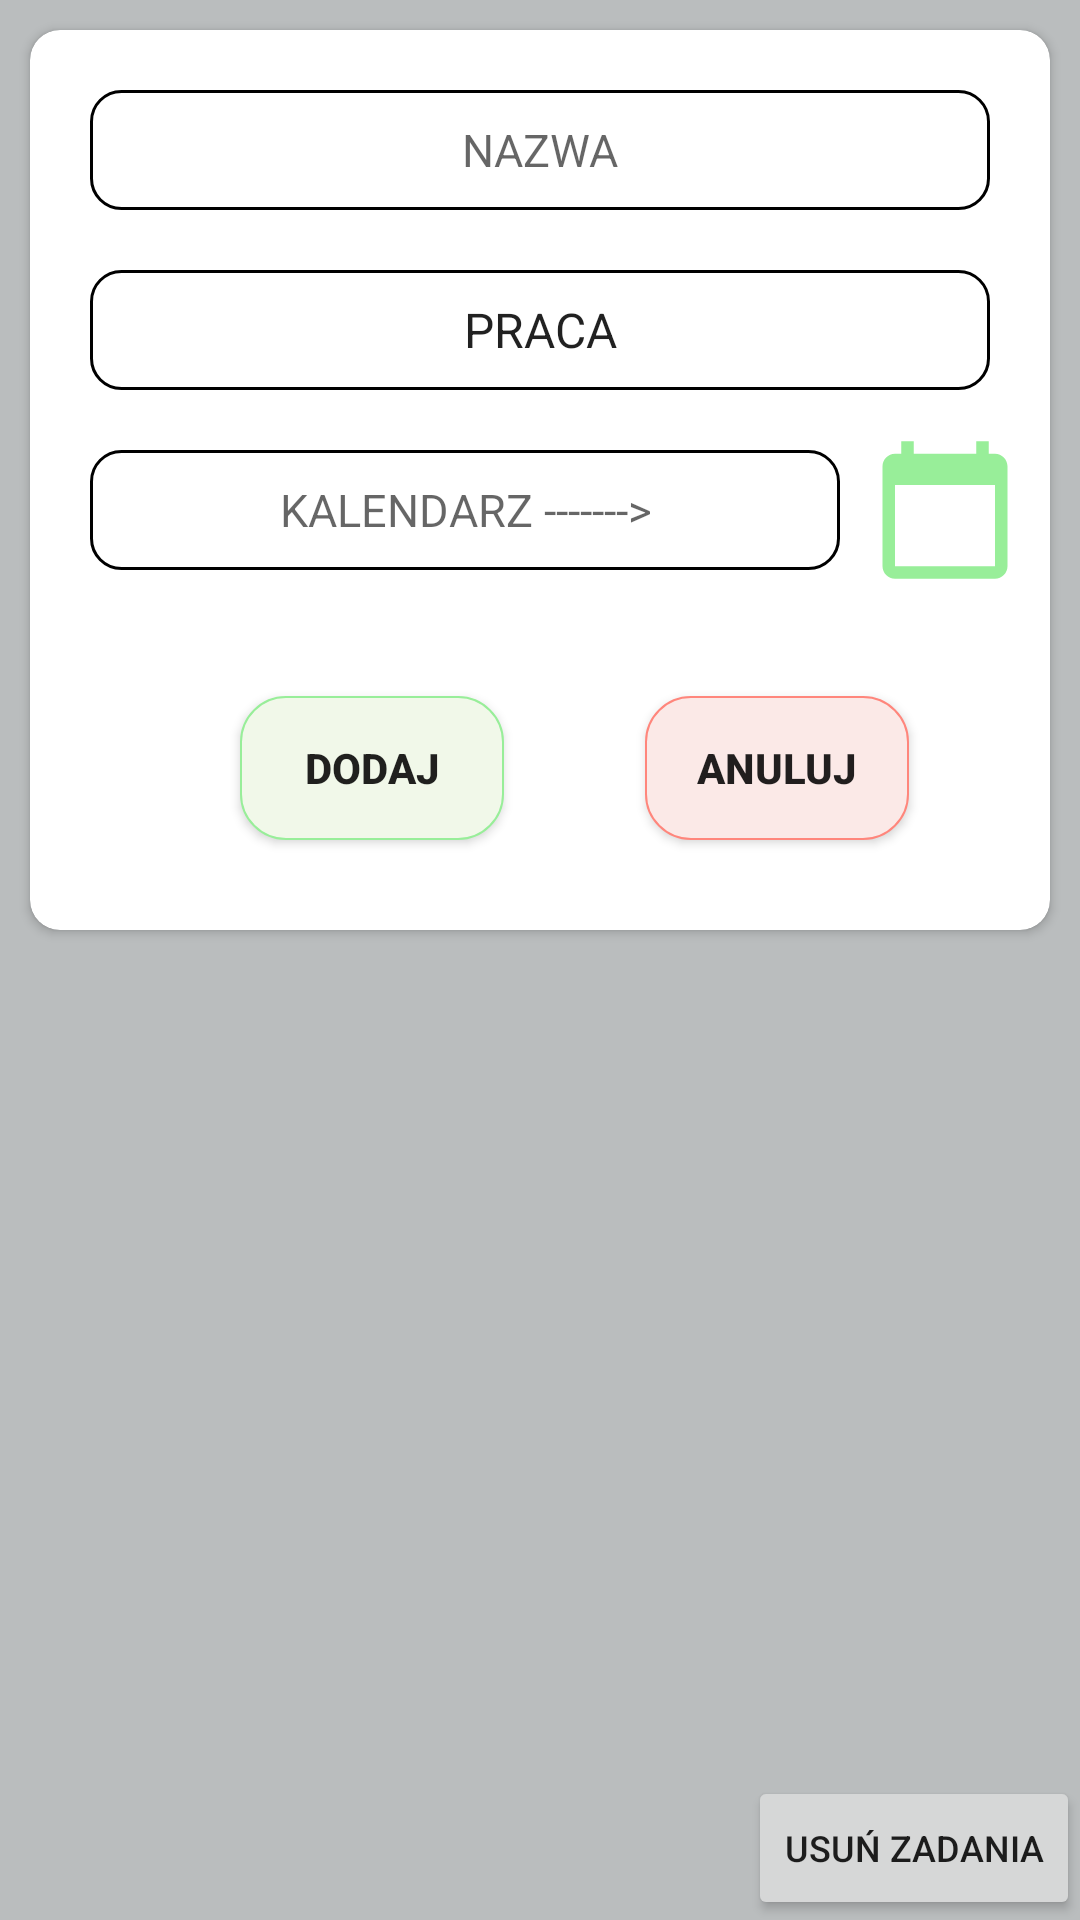

Where icons sit on this 1080 x 1920 app screen, as (x1, y1, x2, y2):
calendar today: (882, 441, 1008, 579)
